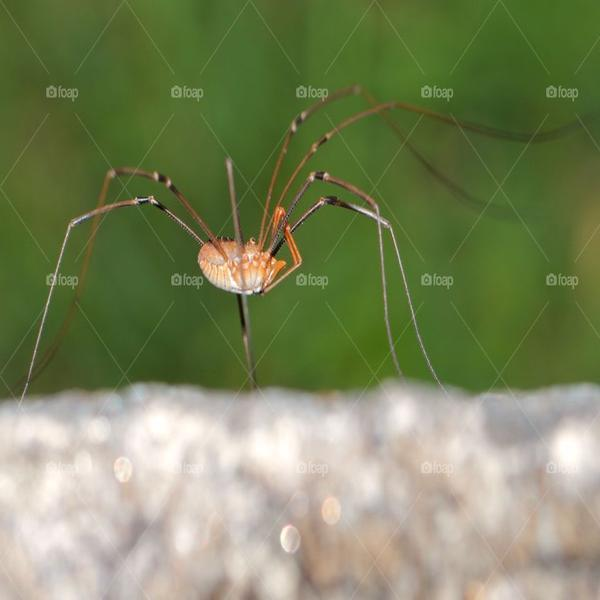Daddy Long Legs Spider: (38, 88, 562, 384)
